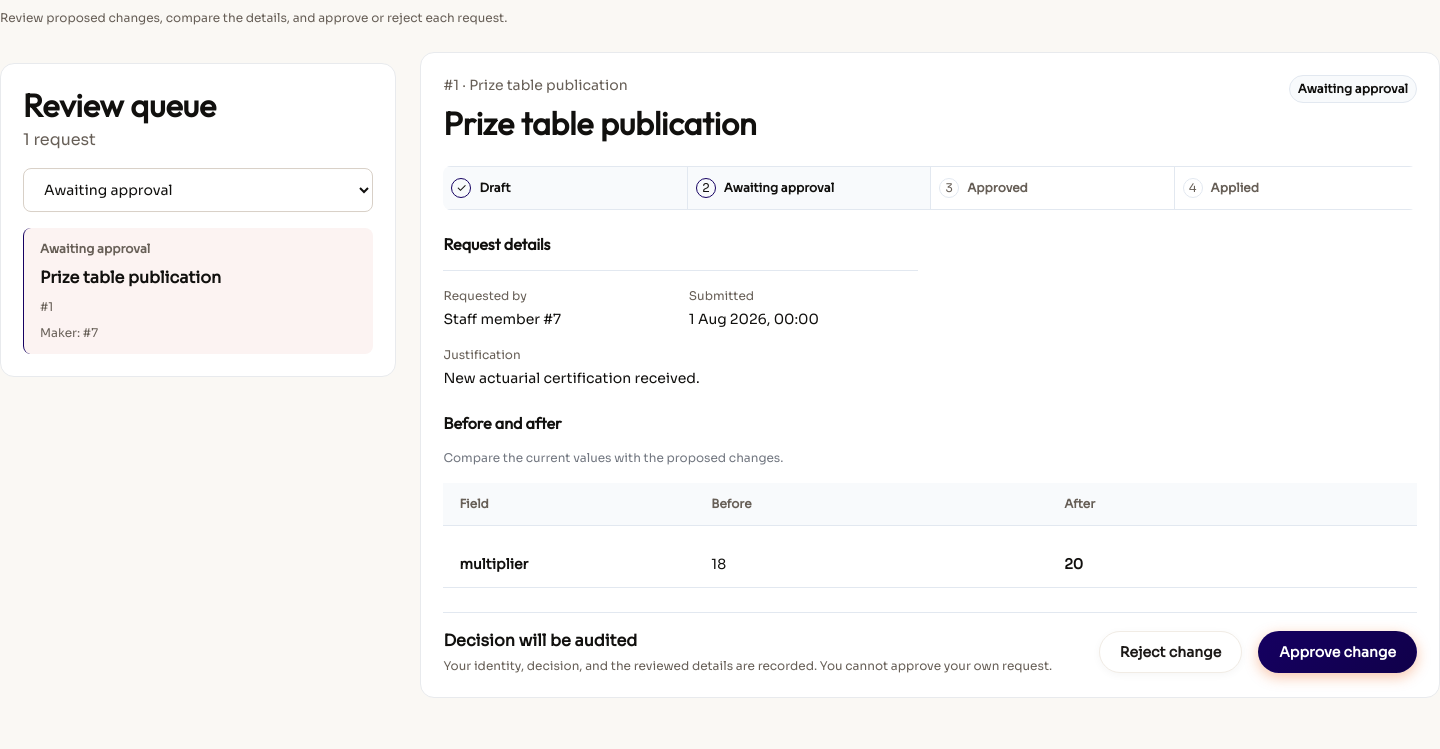
Test: MakerCheckerWorkspace › records a real approval and shows the applied state returned by the backend
Check: the heading "Prize table publication" is shown, box [444, 104, 757, 142]
Click the button "Approve change" at (1338, 652), box [1258, 631, 1417, 673]
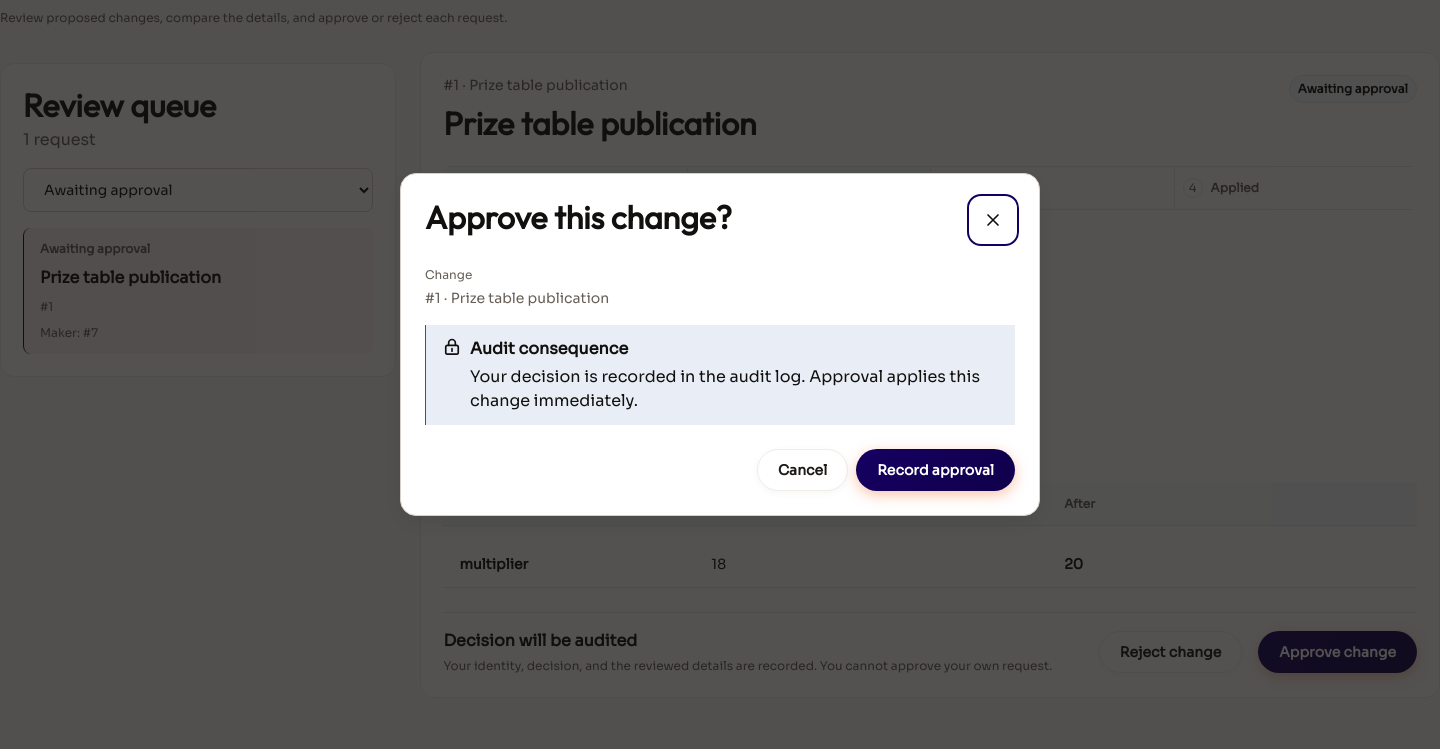
Click the button "Record approval" at (936, 470), box [856, 448, 1015, 490]
(page scrolled)
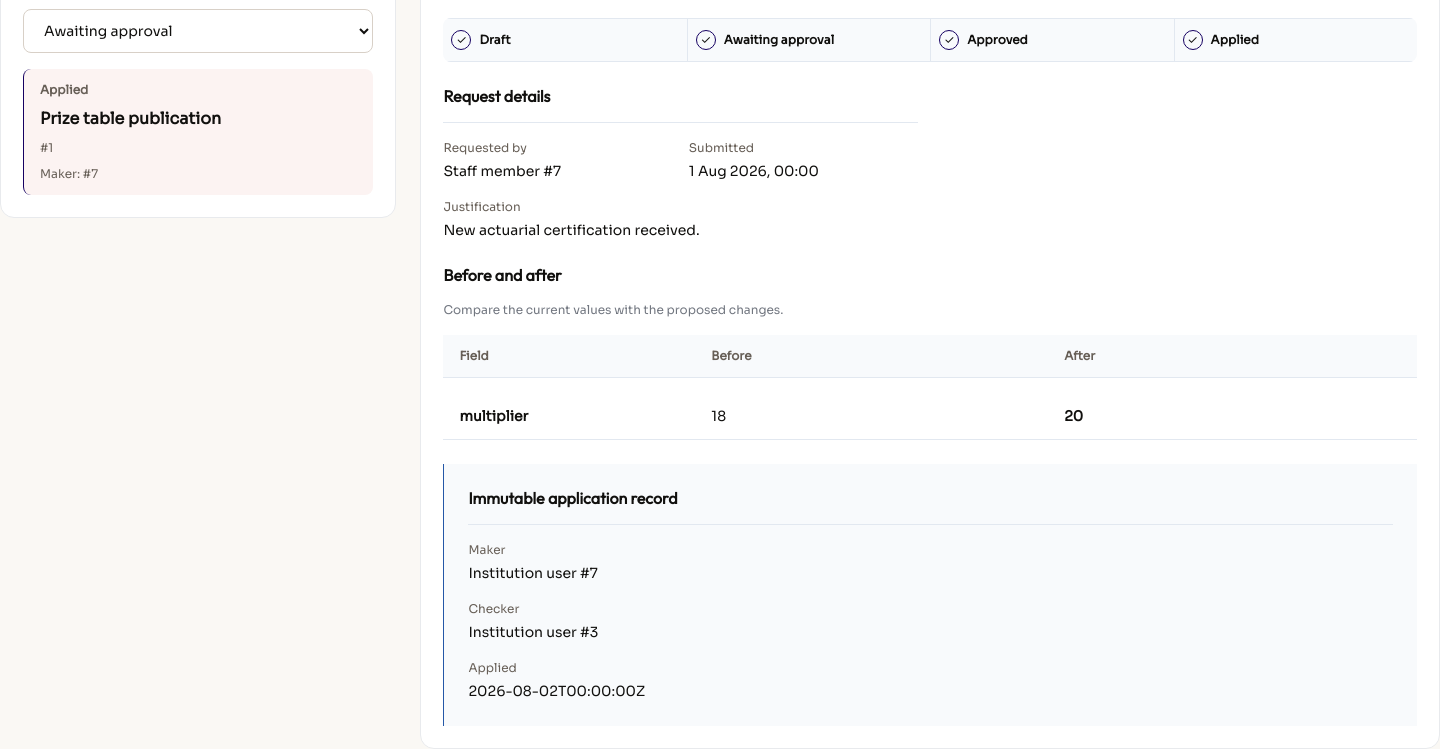
Check: the heading "Immutable application record" is shown, box [468, 488, 678, 508]
Check: the text "Institution user #3" is shown, box [468, 623, 598, 641]
